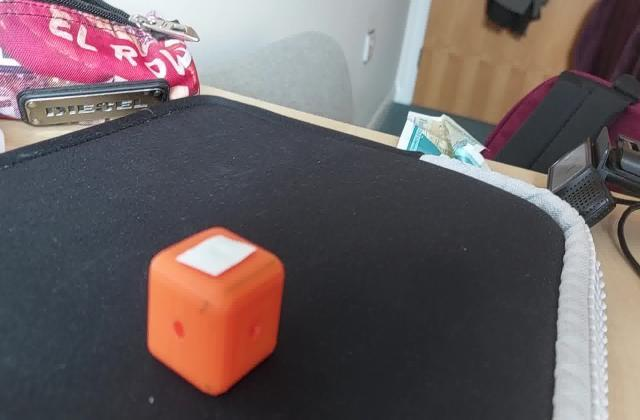cube: (143, 219, 290, 396)
white: (172, 232, 265, 281)
